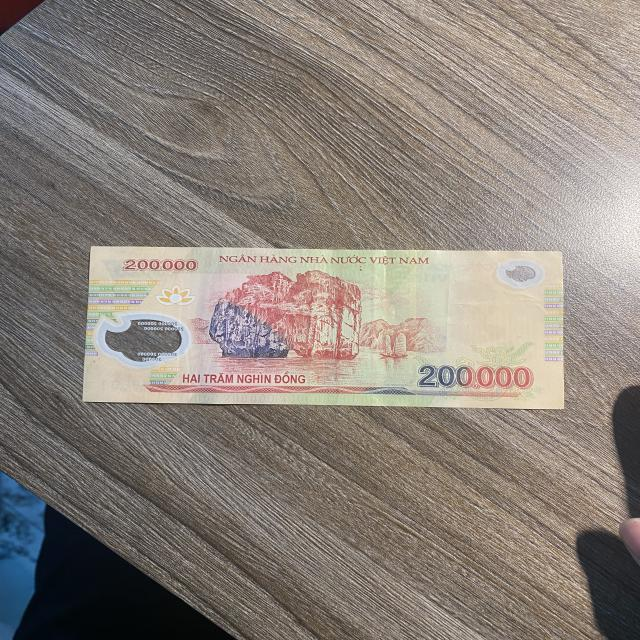200 000 VND: (80, 246, 567, 408)
